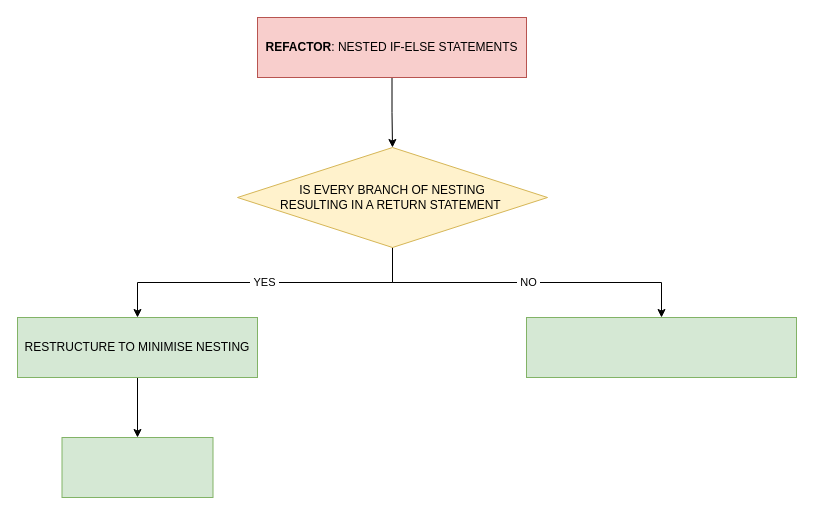
The diagram is 814 pixels wide and 515 high, and some of its shapes have lost their labels. Here are the shapes that lost their labels. From the top down, the centre of each, then its label:
At (661,347): "BREAK CODE INTO SMALLER FUNCTIONS".
At (137,467): "USE GUARD CLAUSES".
